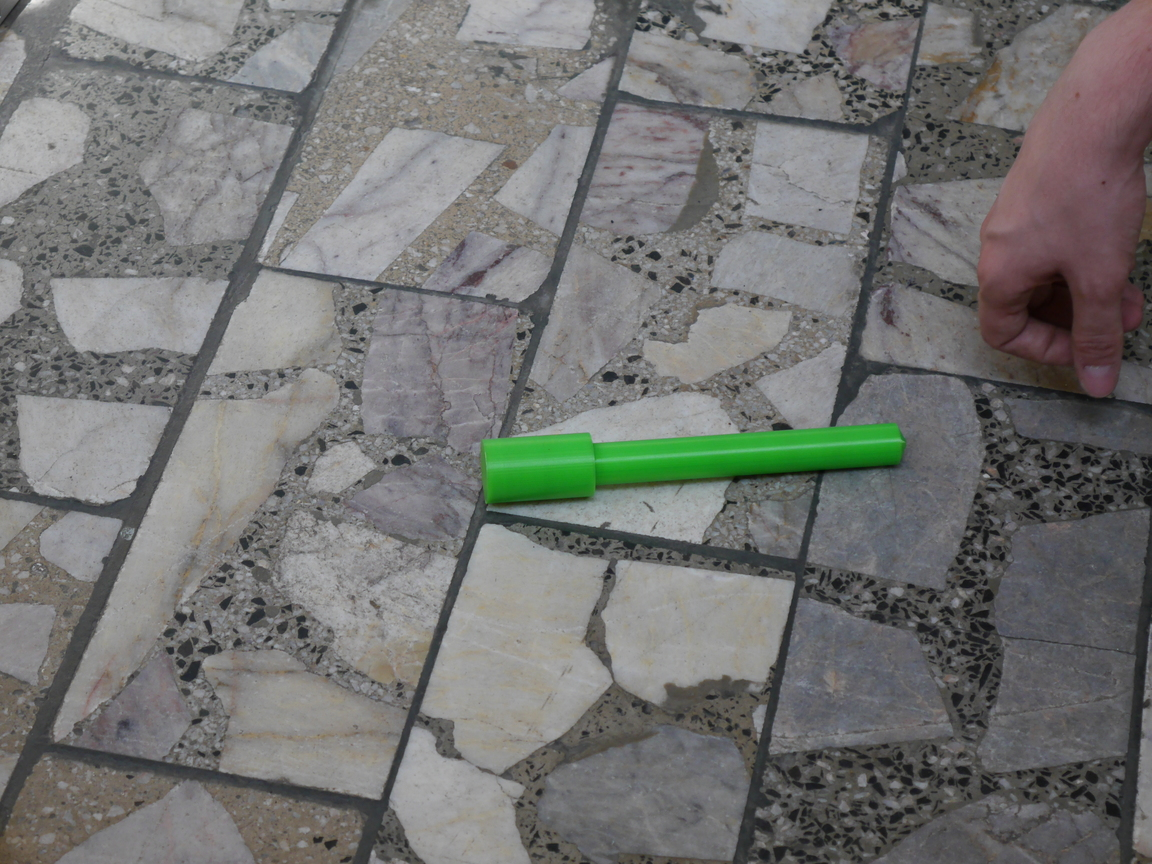cargo_g: (481, 421, 904, 508)
